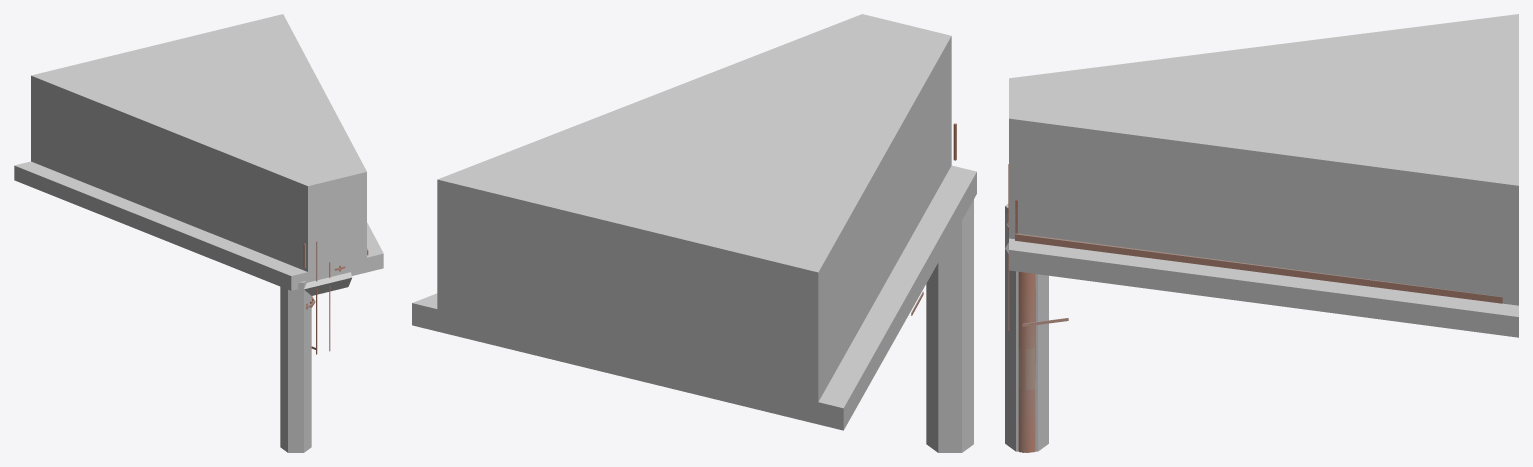
Rendered from billboard_structure2.dae.
3 views of the same model, side by side, from view 1: azimuth 30°, elevation 25°; view 2: azimuth 150°, elevation 25°; view 3: azimuth 270°, elevation 25° (orthographic). The views are drawn at different scales.
Visible parts, largest first — view 1: Colmesh-1, billboard_structure2_a400; view 2: Colmesh-1; view 3: Colmesh-1, billboard_structure2_a400, billboard_structure2_a200.
Part boxes in pixels (x1,y1,x2,y2): Colmesh-1: (14,14,383,452); billboard_structure2_a400: (303,241,368,354); Colmesh-1: (412,14,976,452); Colmesh-1: (1005,14,1518,451); billboard_structure2_a400: (1006,164,1502,452); billboard_structure2_a200: (1015,233,1325,452).
Size of the model in its own units: 12.55 by 14 by 11.09.
